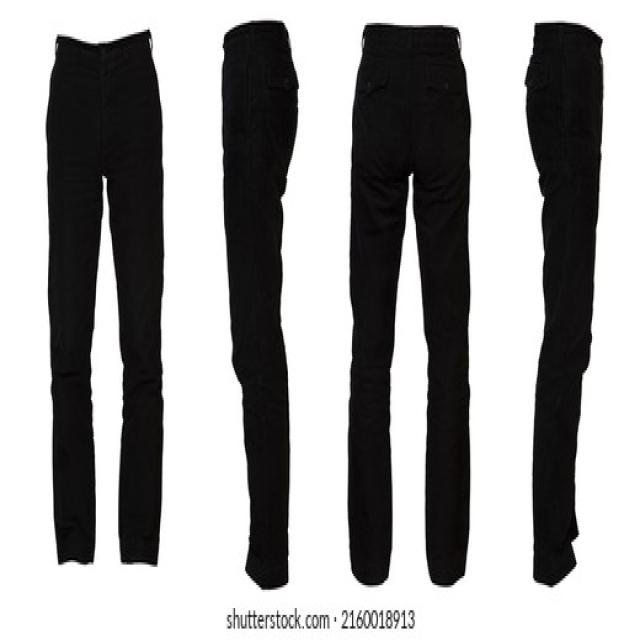pants: (342, 18, 475, 594), (44, 22, 168, 569), (522, 16, 607, 591), (221, 11, 302, 589)
